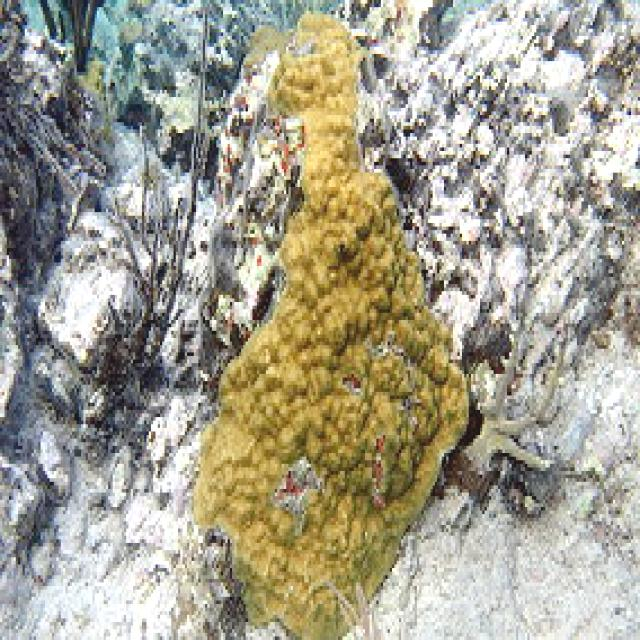Coral: (194, 11, 471, 640)
